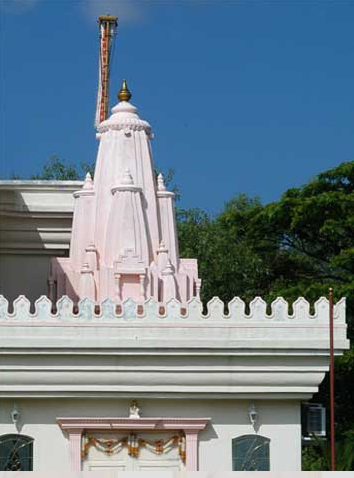Hindu Temple: (65, 77, 192, 306)
